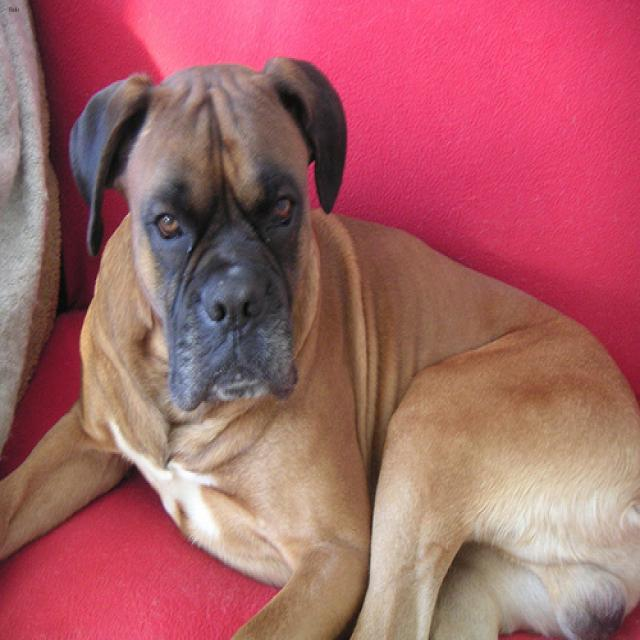dog-boxer: (1, 51, 637, 637)
